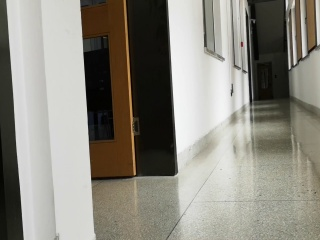room: (77, 3, 179, 179)
